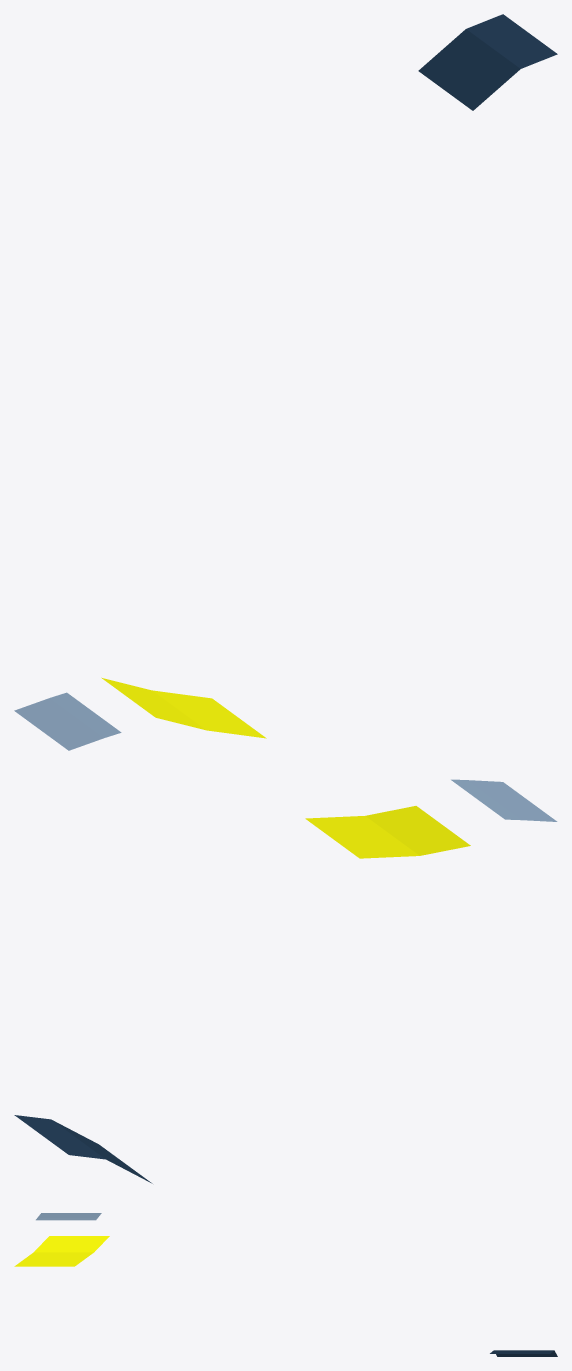
3 renders of one model, top to bottom at view 1: azimuth 30°, elevation 25°; view 2: azimuth 210°, elevation 25°; view 3: azimuth 270°, elevation 25°, orthographic. The views are drawn at different scales.
Parts seen in each view (by area): view 1: line-2LAYER-TEST_LINE3-0000000001 (×6); view 2: line-2LAYER-TEST_LINE3-0000000001 (×6); view 3: line-2LAYER-TEST_LINE3-0000000001 (×5).
Boxes of the visible parts, x1,y1,x2,y2 form: line-2LAYER-TEST_LINE3-0000000001 (×6): [14, 14, 557, 750]; line-2LAYER-TEST_LINE3-0000000001 (×6): [14, 779, 557, 1183]; line-2LAYER-TEST_LINE3-0000000001 (×5): [14, 1213, 557, 1356].
Bounding box in the file's own units: 9414 × 1951 × 8965.
